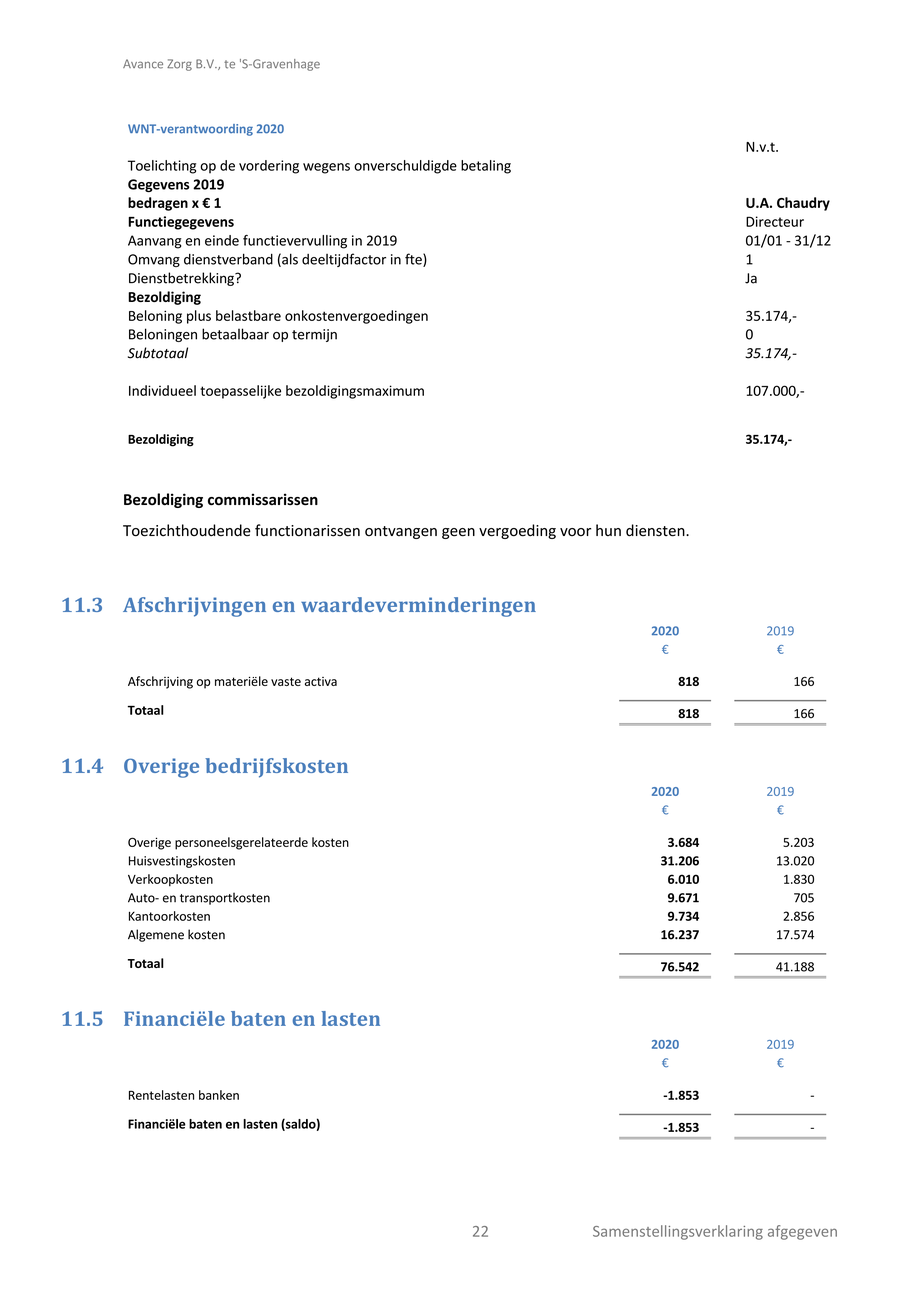coulmn: (124, 137, 522, 453), (118, 832, 359, 971), (731, 135, 832, 452), (127, 1033, 332, 1154), (121, 616, 337, 724), (620, 782, 724, 989), (619, 616, 727, 732), (617, 1033, 725, 1148), (735, 1036, 837, 1152), (739, 616, 832, 734)
